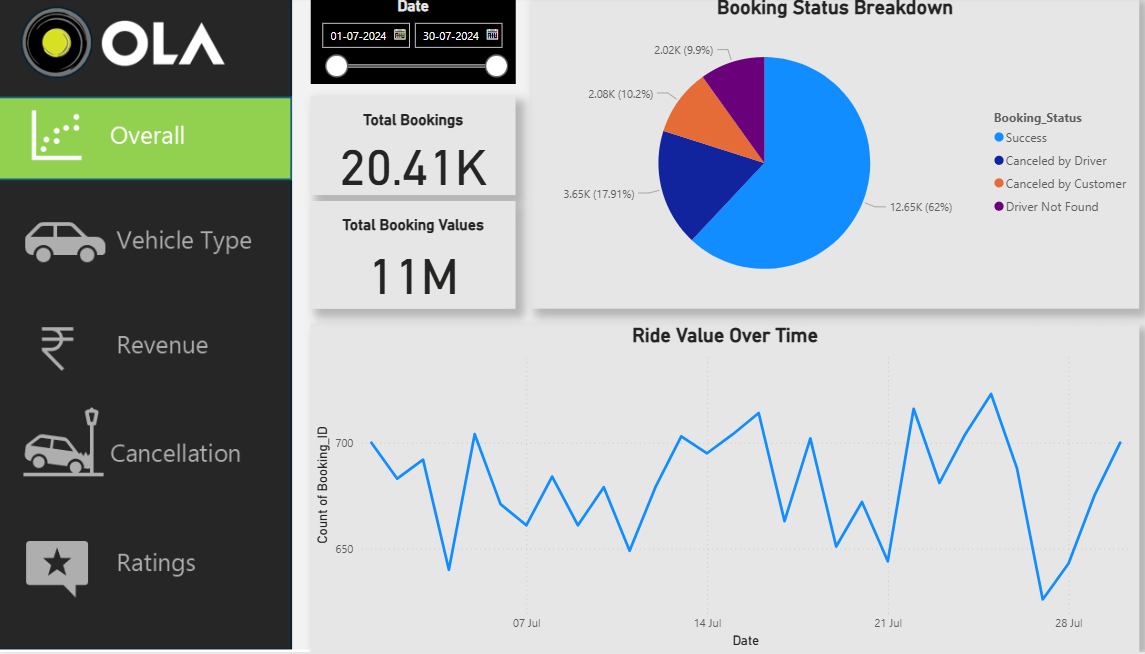

What the dashboard file says about the page in this screenshot:
{"tool":"powerbi","page":{"name":"Overall","canvas":[1280,720],"ordinal":0},"visuals":[{"type":"actionButton","box":[0,218.2,322.5,89.2],"z":0},{"type":"actionButton","box":[0,343.1,323.8,94.7],"z":1000},{"type":"actionButton","box":[0,447.3,323.8,94.7],"z":2000},{"type":"actionButton","box":[0,577.7,323.8,94.7],"z":3000},{"type":"lineChart","title":"Ride Value Over Time","fields":{"Y":["CountNonNull(July.Booking_ID)"],"Category":["July.Date"]},"box":[344.4,359.5,909.8,360.9],"z":4000},{"type":"pieChart","title":"Booking Status Breakdown","fields":{"Category":["July.Booking_Status"],"Y":["CountNonNull(July.Booking_Status)"]},"box":[585.9,0,668.3,343.1],"z":5000},{"type":"slicer","title":"Date","fields":{"Values":["July.Date"]},"box":[344.4,0,225,96.1],"z":6000},{"type":"card","title":"Total Bookings","fields":{"Values":["Count(July.Booking_ID)"]},"box":[344.4,109.8,225,108.4],"z":7000},{"type":"card","title":"Total Booking Values","fields":{"Values":["Sum(July.Booking_Value)"]},"box":[344.4,225,225,118],"z":8000}]}

Visuals, with their boxes in screenshot pixels (x1, y1, x2, y2), scaled from the page's 1280x720 canvas onto the 1145x654 screenshot:
actionButton: <bbox>0, 198, 288, 279</bbox>
actionButton: <bbox>0, 312, 290, 398</bbox>
actionButton: <bbox>0, 406, 290, 492</bbox>
actionButton: <bbox>0, 525, 290, 611</bbox>
"Ride Value Over Time" lineChart: <bbox>308, 327, 1122, 653</bbox>
"Booking Status Breakdown" pieChart: <bbox>524, 0, 1122, 312</bbox>
"Date" slicer: <bbox>308, 0, 509, 87</bbox>
"Total Bookings" card: <bbox>308, 100, 509, 198</bbox>
"Total Booking Values" card: <bbox>308, 204, 509, 312</bbox>
